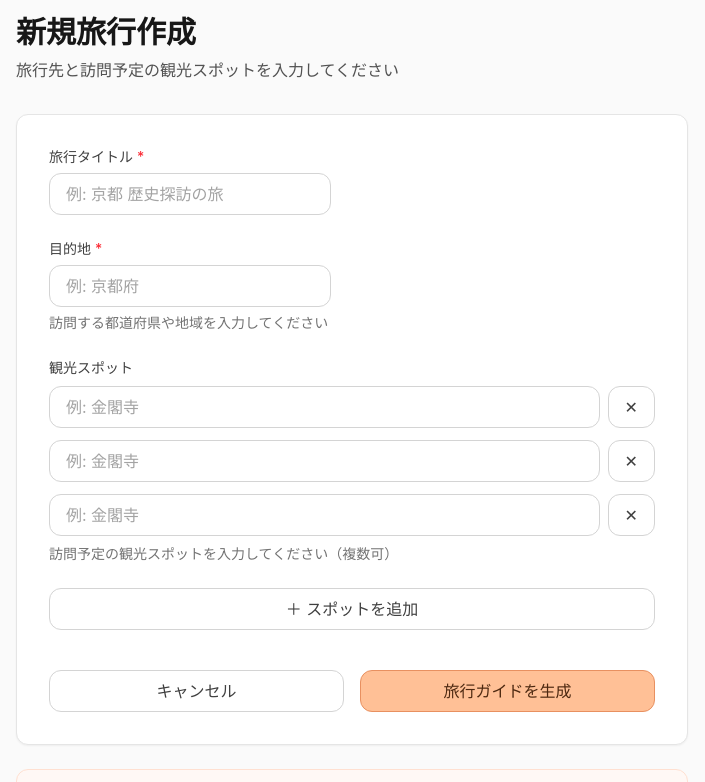
Test case: TravelNewPage › スポット追加・削除 › スポットが1つの場合は削除ボタンが無効になる
Step 1. Click the button named "スポットを削除" → point(631, 407), box [608, 386, 655, 428]
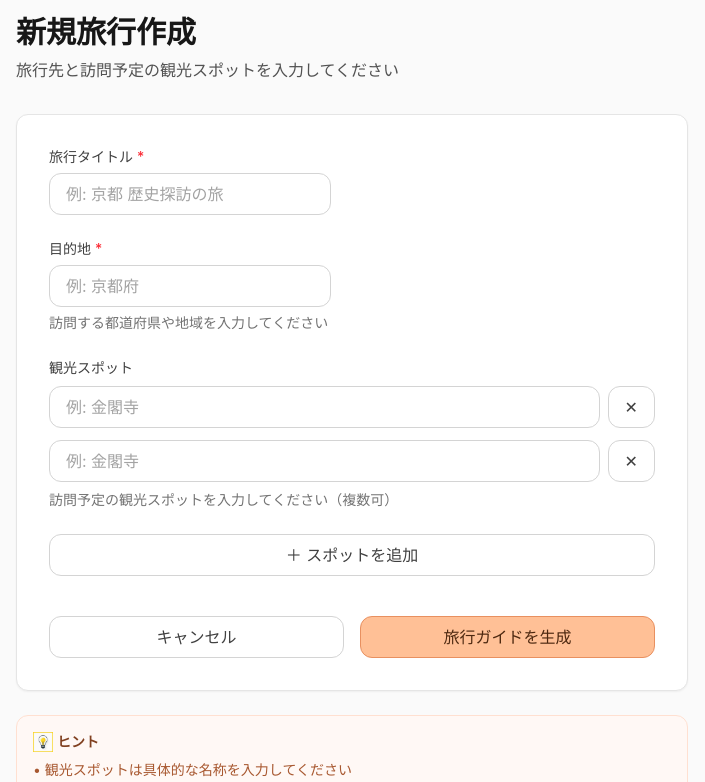
Step 2. Click the button named "スポットを削除" → point(631, 407), box [608, 386, 655, 428]
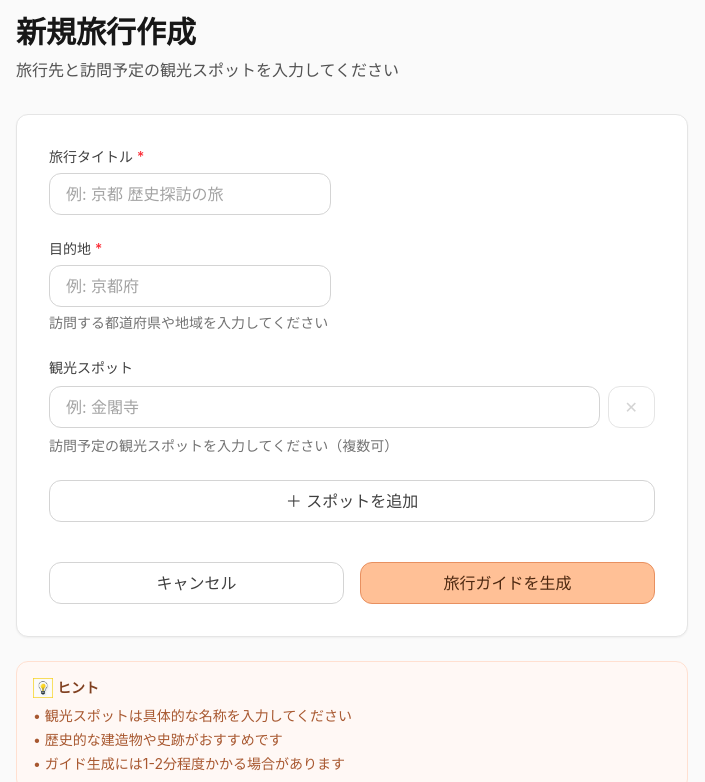
Now the button named "スポットを削除" is disabled, box [608, 386, 655, 428]
